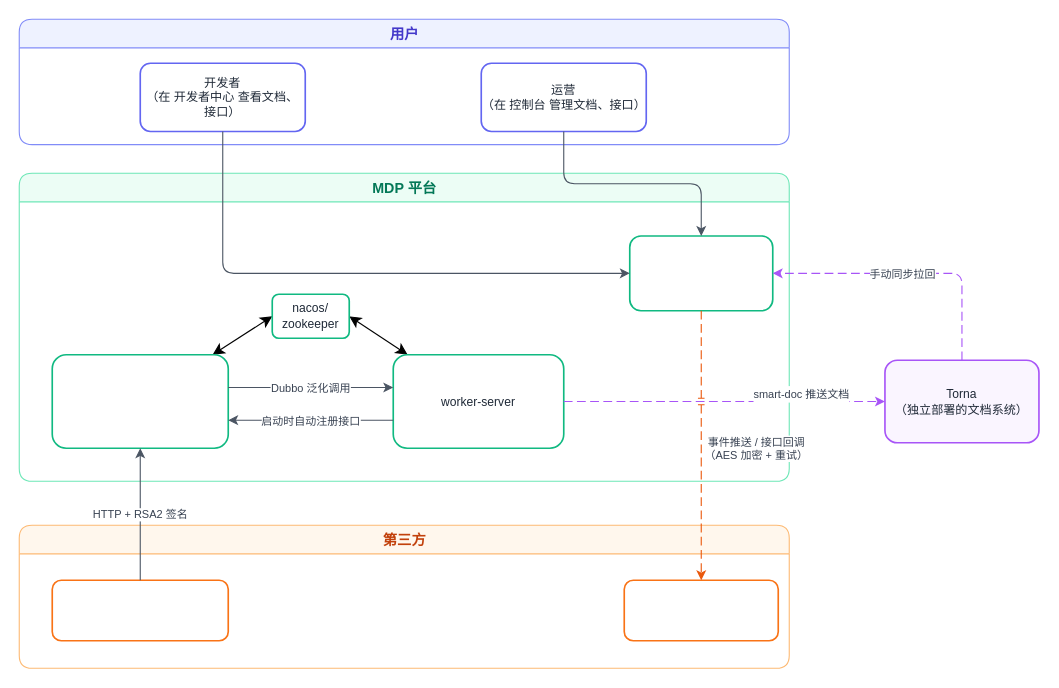
This 1059x688 diagram has some shape labels left out. The centre of each missing label's shape, as x and y in pixels:
"boot-server" belongs at (700,273).
"mdp-sdk （Java SDK）" belongs at (140,610).
"sop-gateway-server" belongs at (140,401).
"回调接收端" belongs at (701,610).
